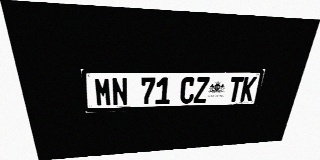1: (155, 77, 171, 105)
7: (140, 77, 155, 105)
C: (179, 77, 196, 104)
K: (240, 77, 257, 102)
M: (94, 78, 112, 107)
N: (111, 77, 128, 106)
T: (227, 77, 244, 102)
Z: (193, 77, 210, 103)
